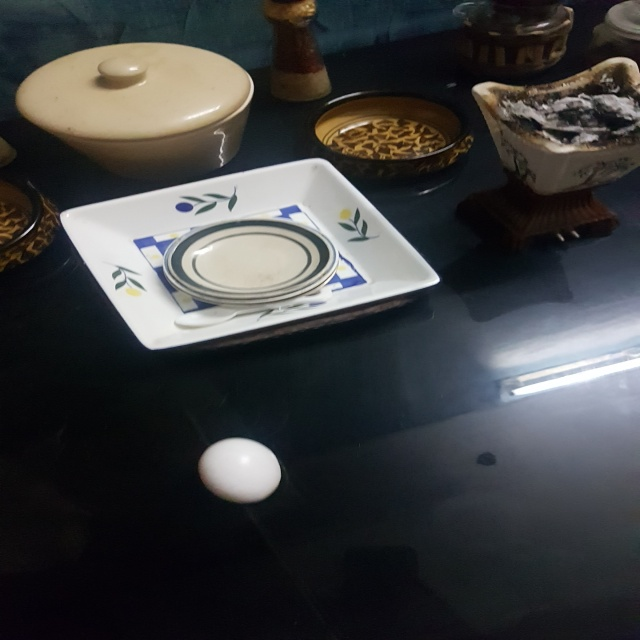eggs: (196, 436, 283, 503)
